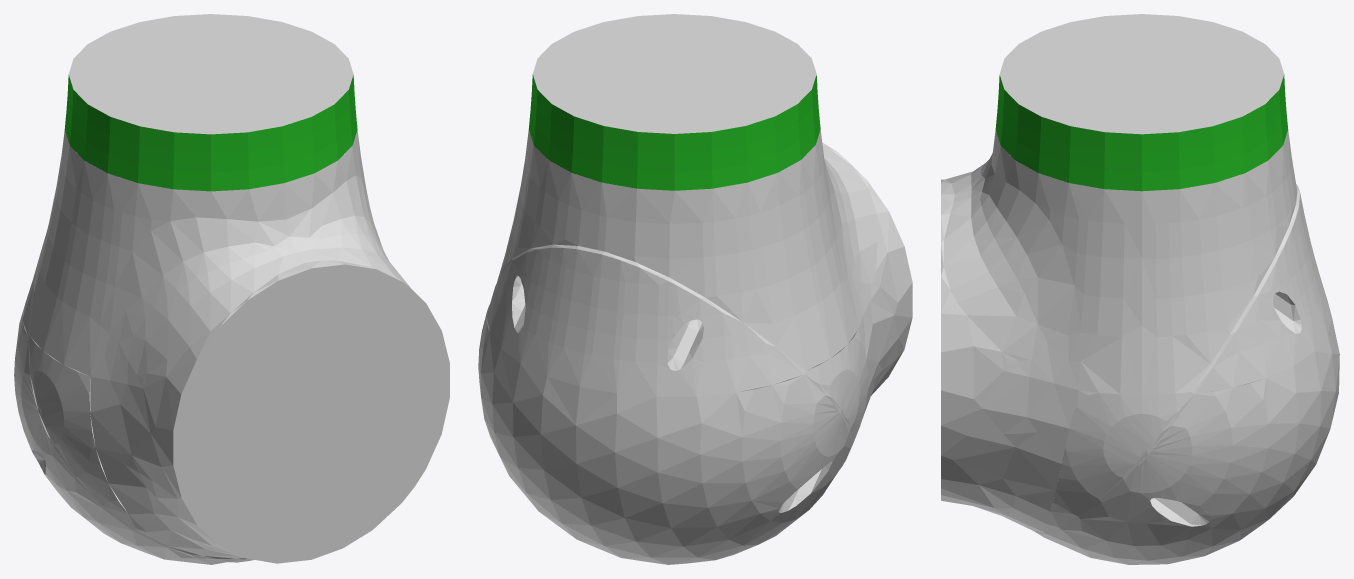
The picture shows the model from 3 angles, left to right: view 1: azimuth 30°, elevation 25°; view 2: azimuth 150°, elevation 25°; view 3: azimuth 270°, elevation 25°; orthographic projection.
Visible parts, largest first — view 1: node; view 2: node; view 3: node.
Part boxes in pixels (box(x1,y1,x2,y2)): node: box(14, 14, 449, 564); node: box(478, 14, 912, 564); node: box(941, 14, 1339, 564).
Bounding box in the file's own units: 154 × 205 × 157.
